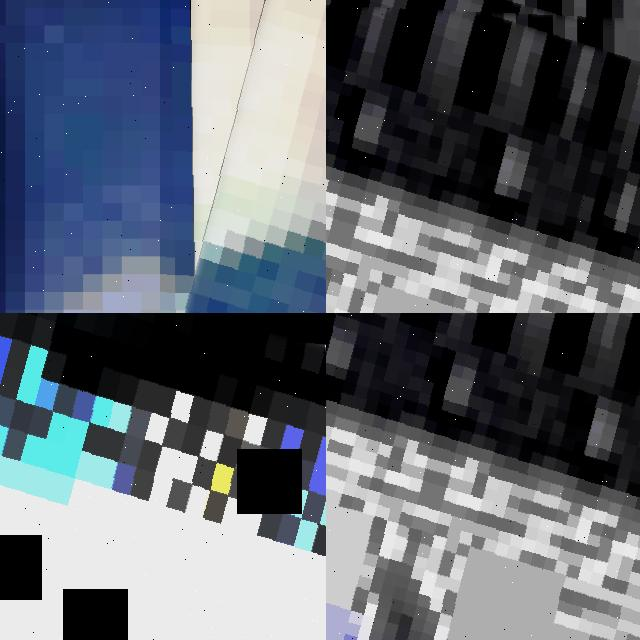arms: (0, 313, 326, 640), (326, 313, 640, 640), (326, 0, 640, 313), (343, 313, 577, 578), (160, 0, 326, 313), (326, 0, 487, 313), (499, 0, 640, 279)
